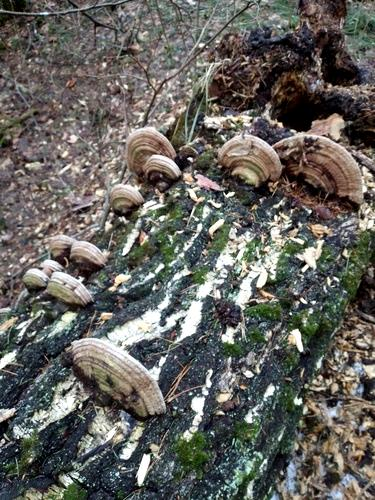Ganoderma - Fruit Body: (66, 336, 167, 422), (288, 137, 362, 207), (119, 127, 179, 184), (25, 260, 92, 309), (221, 136, 282, 186)
